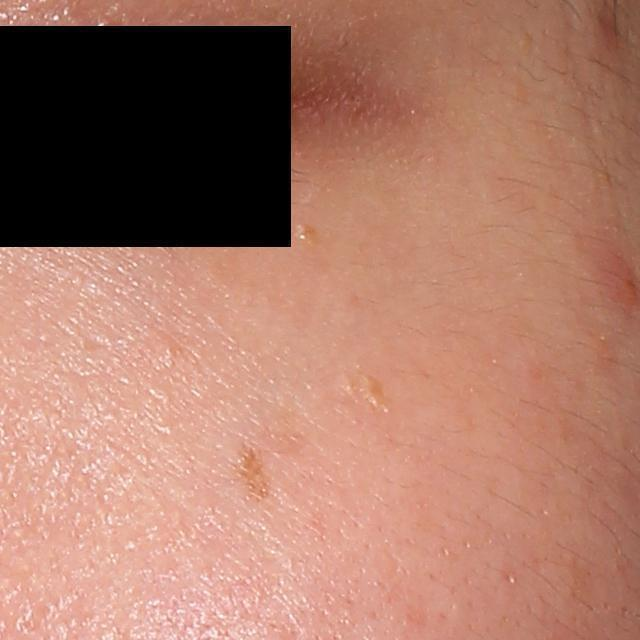melasma: (236, 446, 278, 504), (362, 370, 391, 410)
